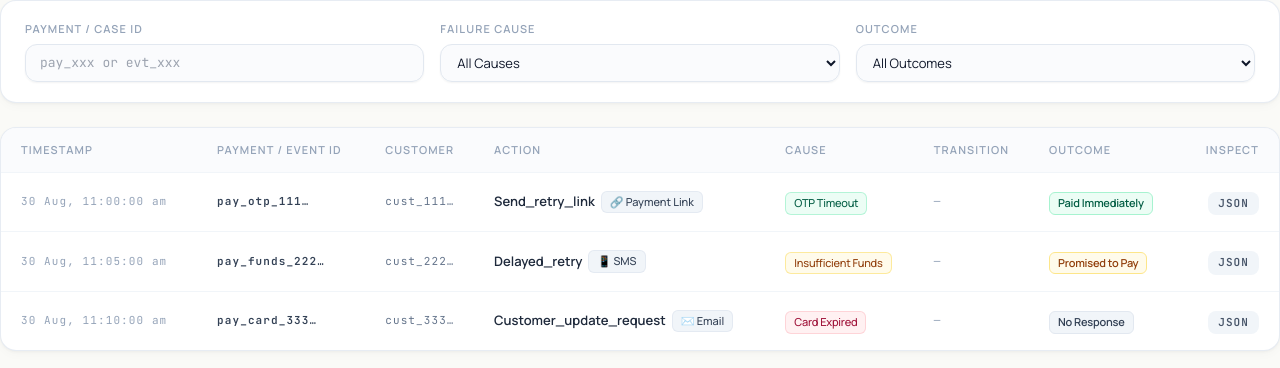
Scenario: AuditLogView Component › renders table rows for all logs and updates hook params on filter change
Expected: the button "pay_otp_111…" is shown, [217,194,310,210]
Expected: the button "pay_funds_222…" is shown, [217,254,325,269]
# Select Failure Cause filter (combobox 0)
Select "OTP Timeout" in the dropdown below "Failure Cause" at [640, 63], box [440,44,840,82]
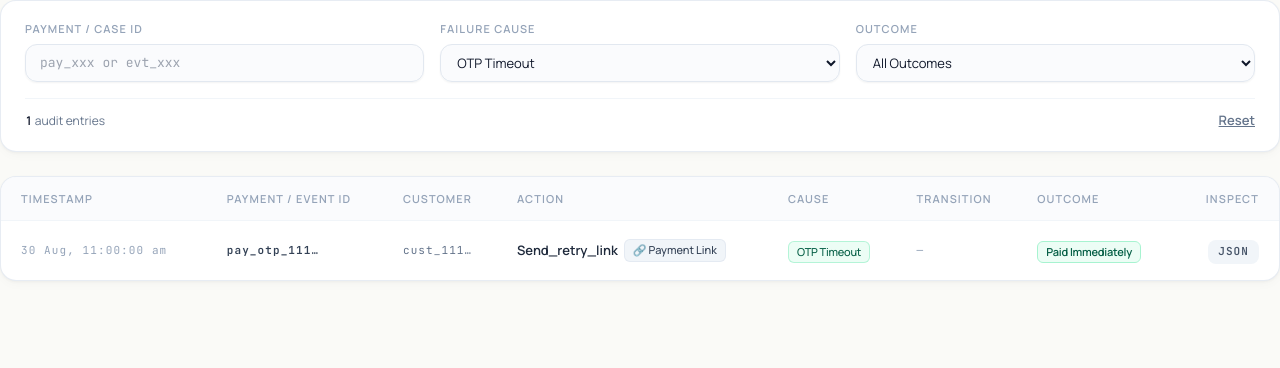
Expected: the button "pay_otp_111…" is shown, [227,243,319,258]
Now the button "pay_funds_222" is gone
Now the button "pay_card_333" is gone
